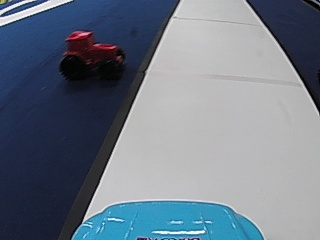tractor: (58, 27, 126, 80)
